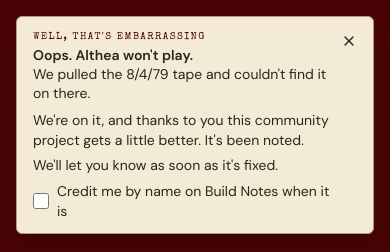
the oops card › ticking credit is the fan's yes, sent for this issue
The image size is (390, 252).
Click the checkbox: (41, 201) x1=33 y1=193 x2=49 y2=209
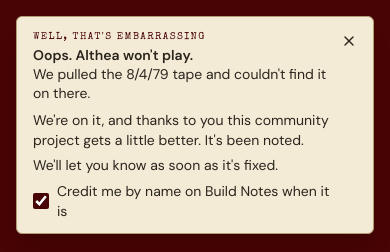
Expected: the checkbox is checked, x1=33 y1=193 x2=49 y2=209
